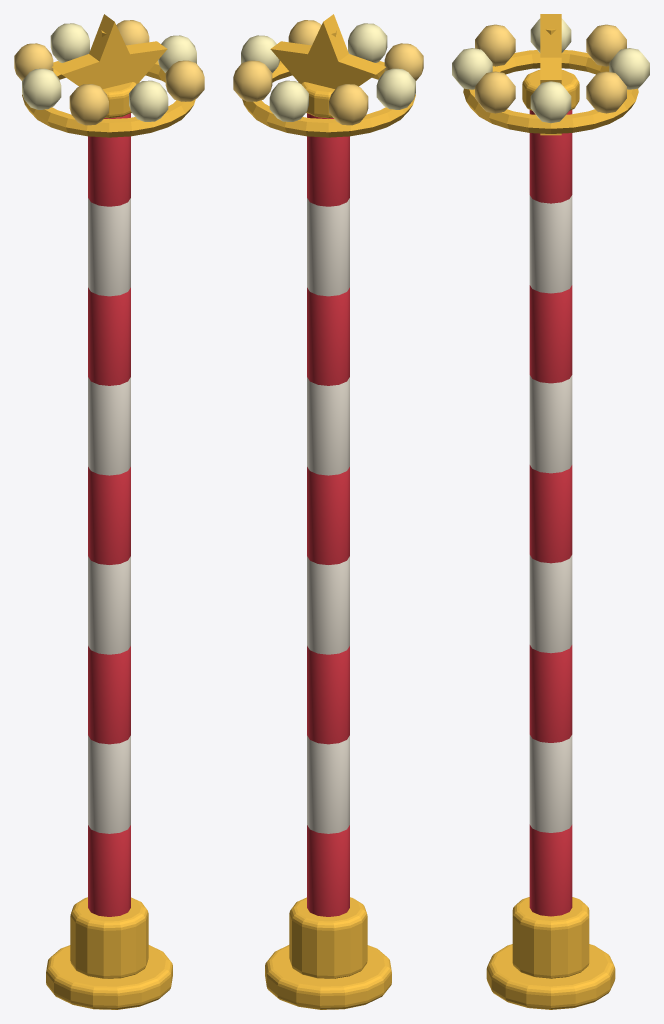
Rendered from PumpLightPole.obj.
The picture shows the model from 3 angles, left to right: view 1: azimuth 30°, elevation 25°; view 2: azimuth 150°, elevation 25°; view 3: azimuth 270°, elevation 25°; orthographic projection.
Visible parts, largest first — view 1: PoleA, Foot, PoleB, BulbsA, BulbsB; view 2: PoleA, Foot, PoleB, BulbsA, BulbsB; view 3: PoleA, Foot, PoleB, BulbsB, BulbsA.
Boxes of the visible parts, <box> form: PoleA: <box>88,113,130,916</box>; Foot: <box>22,14,195,1009</box>; PoleB: <box>88,198,130,833</box>; BulbsA: <box>22,23,196,121</box>; BulbsB: <box>14,20,204,125</box>; PoleA: <box>307,113,349,916</box>; Foot: <box>242,14,415,1009</box>; PoleB: <box>307,198,349,833</box>; BulbsA: <box>241,23,415,121</box>; BulbsB: <box>233,20,423,125</box>; PoleA: <box>529,110,572,916</box>; Foot: <box>463,14,638,1009</box>; PoleB: <box>529,195,572,832</box>; BulbsB: <box>475,24,626,113</box>; BulbsA: <box>452,18,649,123</box>.
Size of the model in its own units: 2.77 by 15 by 2.77.
